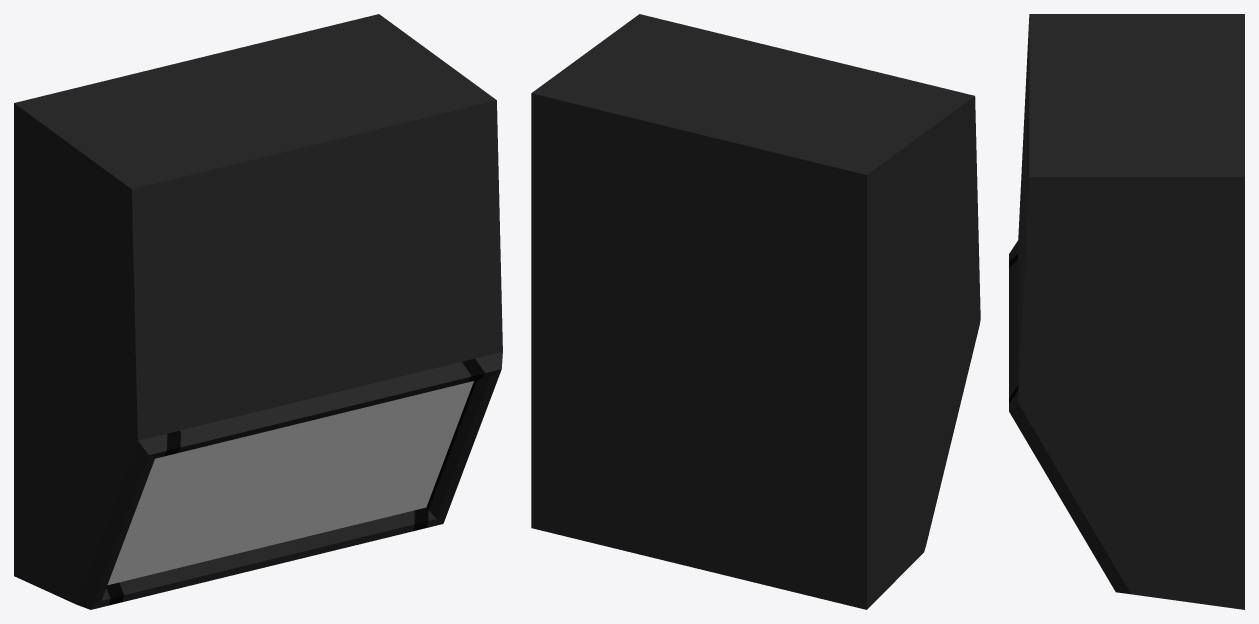
The model's file is StructureLight04_Art.fbx.
3 views of the same model, side by side, from view 1: azimuth 30°, elevation 25°; view 2: azimuth 150°, elevation 25°; view 3: azimuth 270°, elevation 25° (orthographic). The views are drawn at different scales.
Parts seen in each view (by area): view 1: StructureLight04_Art; view 2: StructureLight04_Art; view 3: StructureLight04_Art.
Part boxes in pixels (x1,y1,x2,y2): StructureLight04_Art: [14, 14, 502, 609]; StructureLight04_Art: [531, 14, 980, 609]; StructureLight04_Art: [1009, 14, 1244, 609].
Size of the model in its own units: 1.35 by 1.67 by 0.8257.
